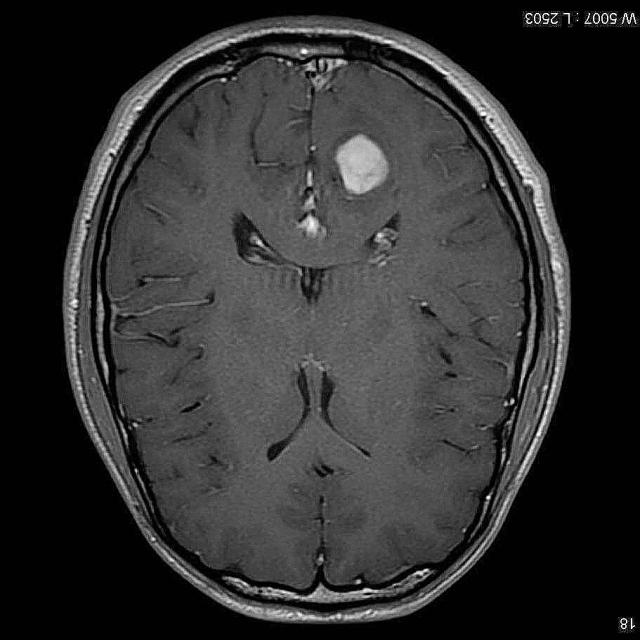Tumor-Cell: (336, 132, 400, 212)
